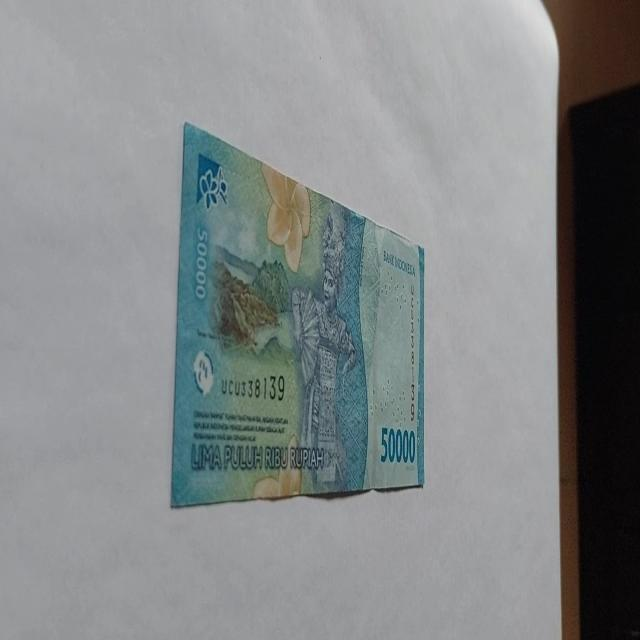lima puluh ribu rupiah: (170, 120, 426, 508)
